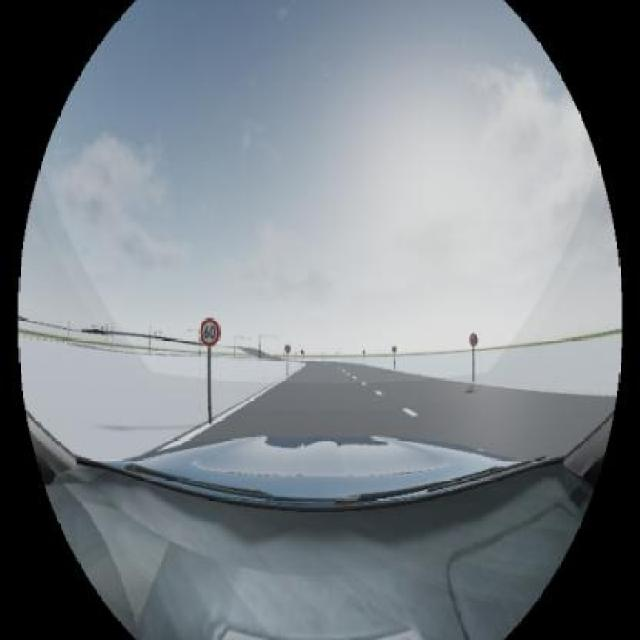forb_speed_over_60: (199, 319, 221, 346)
